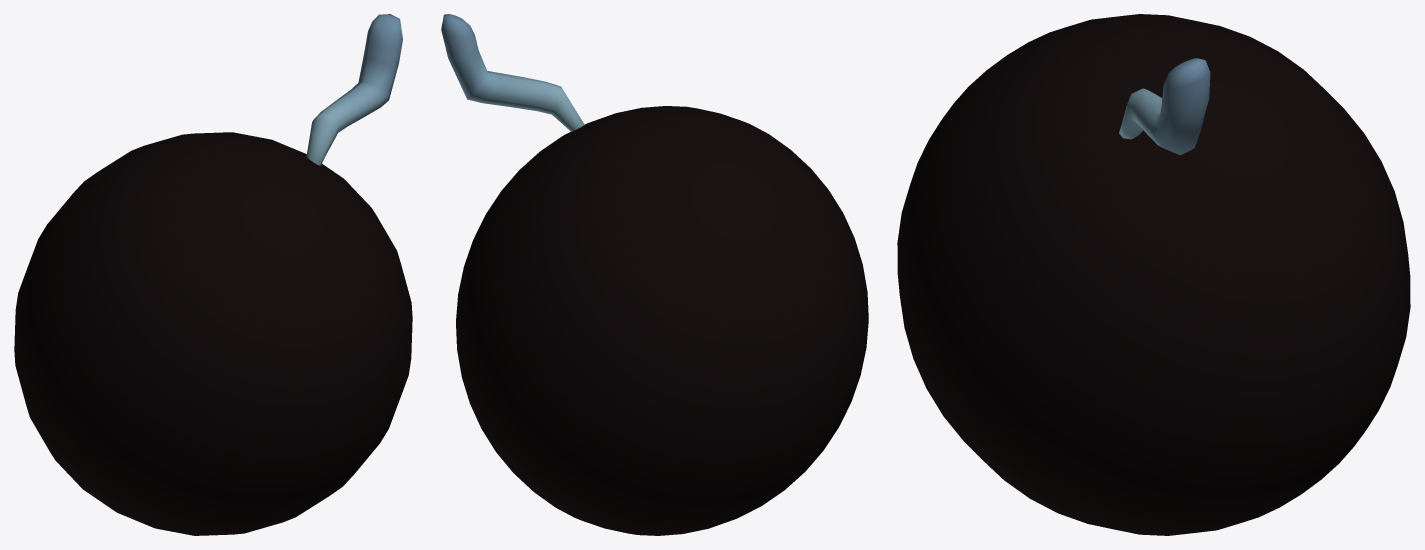
The model's file is OkamiBomb.fbx.
3 renders of one model, left to right at view 1: azimuth 30°, elevation 25°; view 2: azimuth 150°, elevation 25°; view 3: azimuth 270°, elevation 25°, orthographic. The views are drawn at different scales.
Visible parts, largest first — view 1: BombBlackLinesLayer, Cube.002; view 2: BombBlackLinesLayer, Cube.002; view 3: BombBlackLinesLayer, Cube.002.
Boxes of the visible parts, x1,y1,x2,y2 form: BombBlackLinesLayer: [14, 132, 412, 535]; Cube.002: [306, 14, 402, 165]; BombBlackLinesLayer: [456, 106, 868, 535]; Cube.002: [441, 14, 584, 131]; BombBlackLinesLayer: [897, 14, 1410, 535]; Cube.002: [1119, 58, 1210, 155].
Size of the model in its own units: 438 by 502 by 410.
Materials: 2 (2 with a texture image).
